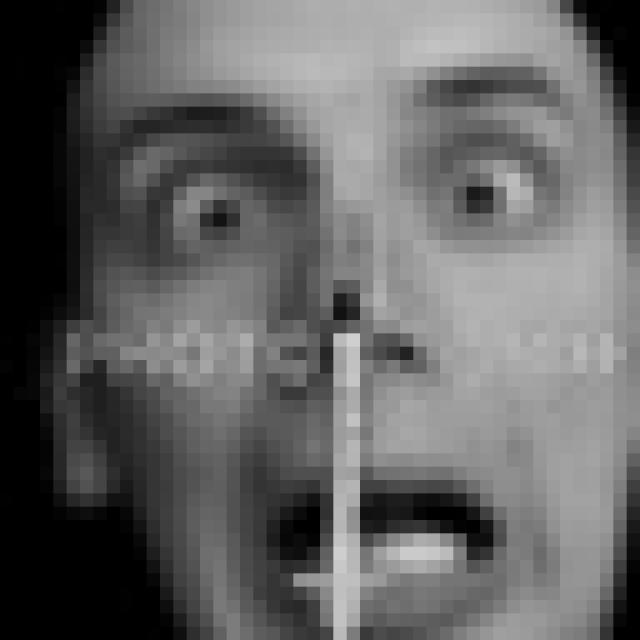fear: (114, 65, 576, 640)
